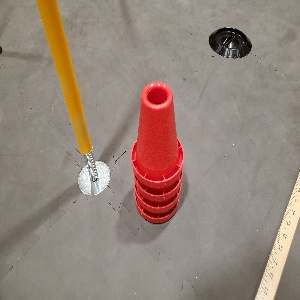Red_4: (131, 82, 185, 219)
